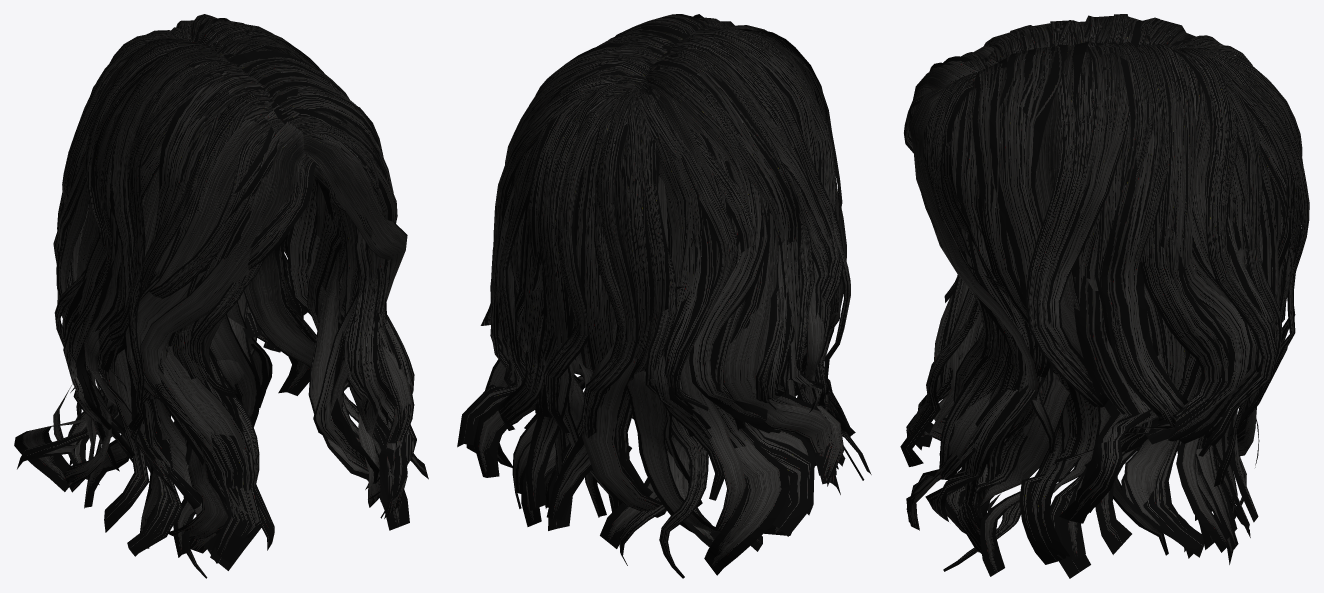
Rendered from Hair_2.fbx.
3 views of the same model, side by side, from view 1: azimuth 30°, elevation 25°; view 2: azimuth 150°, elevation 25°; view 3: azimuth 270°, elevation 25° (orthographic). The views are drawn at different scales.
Visible parts, largest first — view 1: avaturn_hair_1, avaturn_hair_0; view 2: avaturn_hair_1, avaturn_hair_0; view 3: avaturn_hair_1, avaturn_hair_0.
Part boxes in pixels (box(x1,y1,x2,y2)): avaturn_hair_1: box(17, 14, 428, 578); avaturn_hair_0: box(14, 43, 412, 557); avaturn_hair_1: box(457, 14, 871, 578); avaturn_hair_0: box(466, 27, 845, 575); avaturn_hair_1: box(900, 14, 1309, 578); avaturn_hair_0: box(907, 39, 1259, 564).
Bounding box in the file's own units: 27.55 × 36.22 × 26.29.
